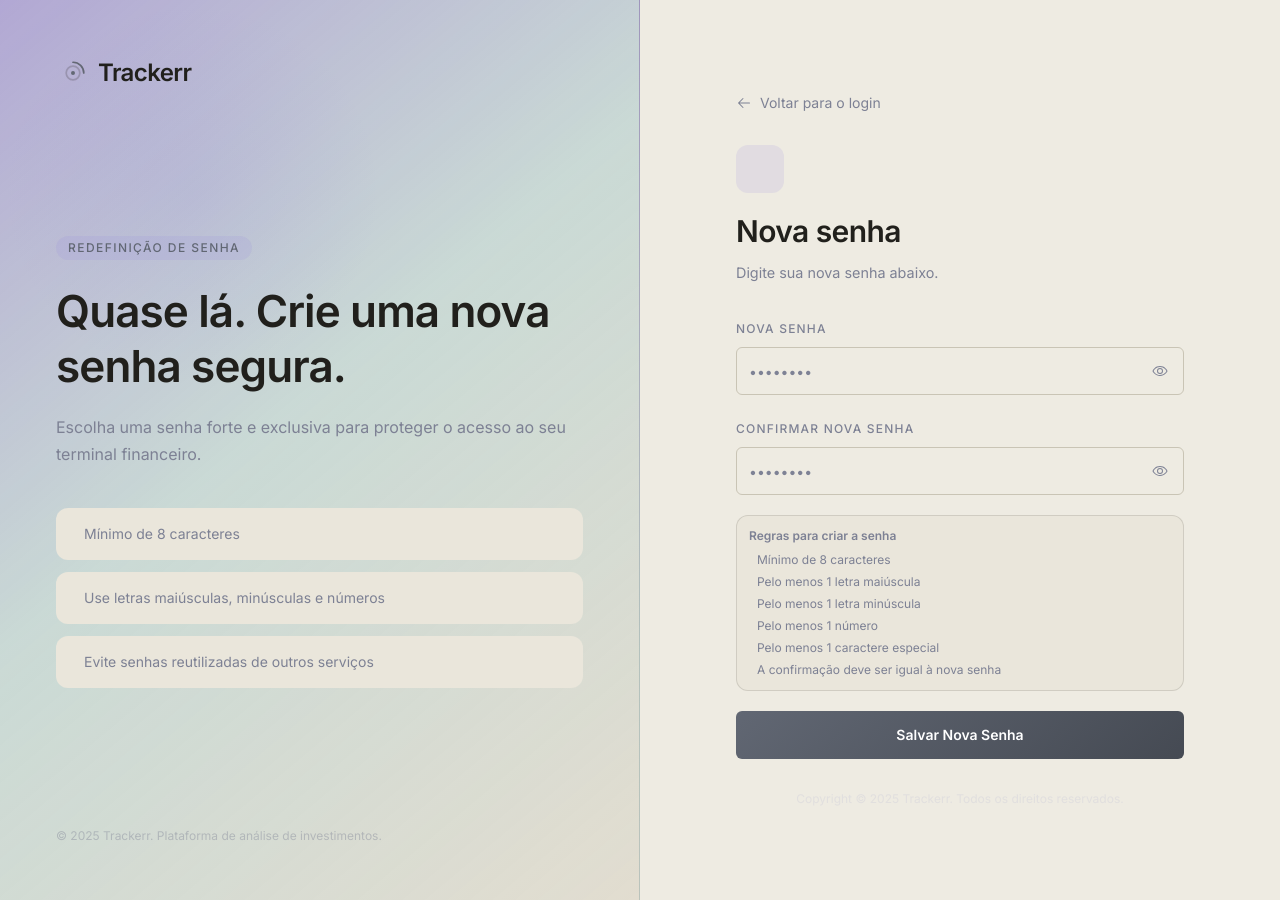
ResetPassword › deve exibir erro quando as senhas não coincidem
The width and height of the screenshot is (1280, 900).
Type "Password123@" into the 1st password field with placeholder "••••••••" at (960, 371), box 736,347 -> 1184,395
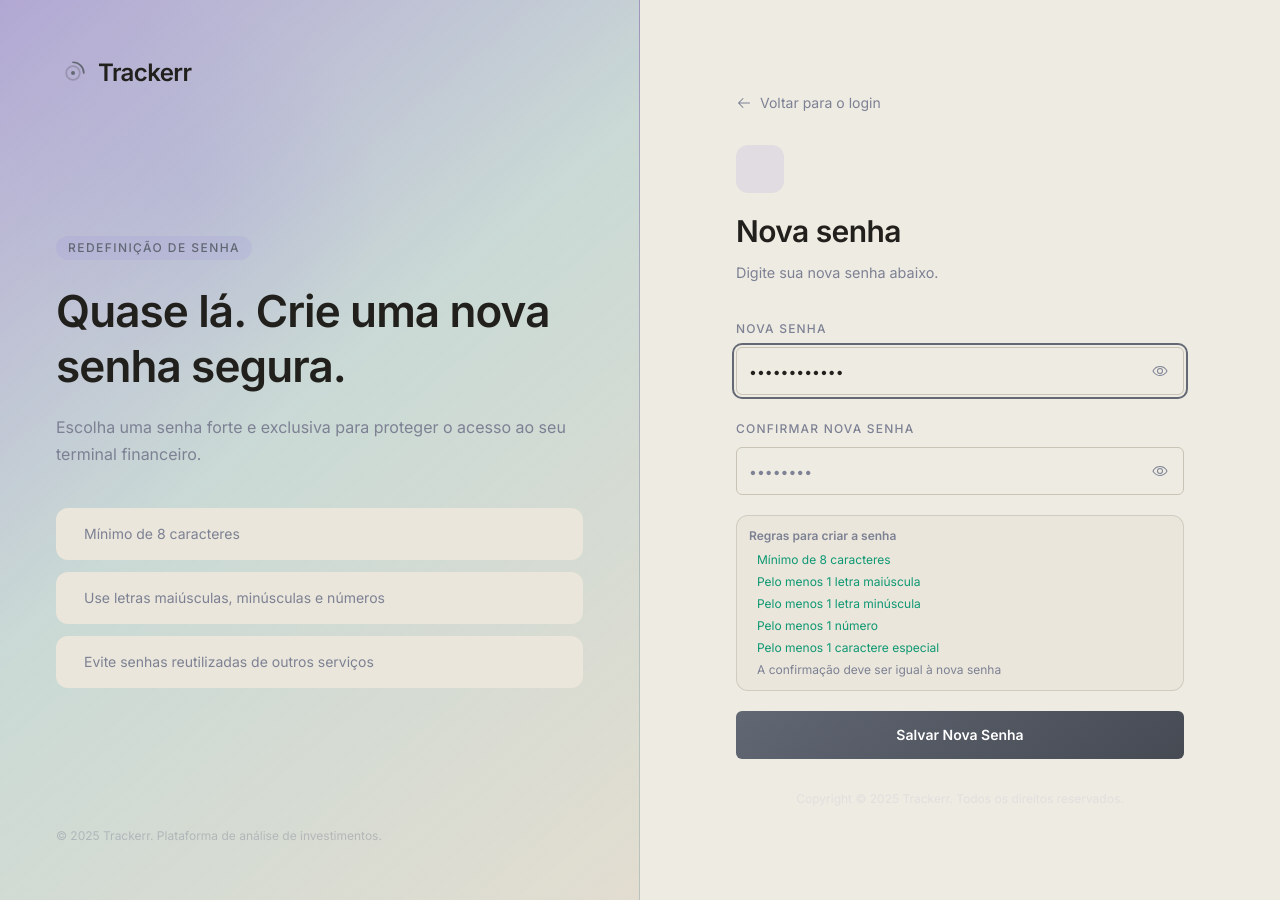
Type "Different123@" into the password field with placeholder "••••••••" at (960, 471), box 736,447 -> 1184,495
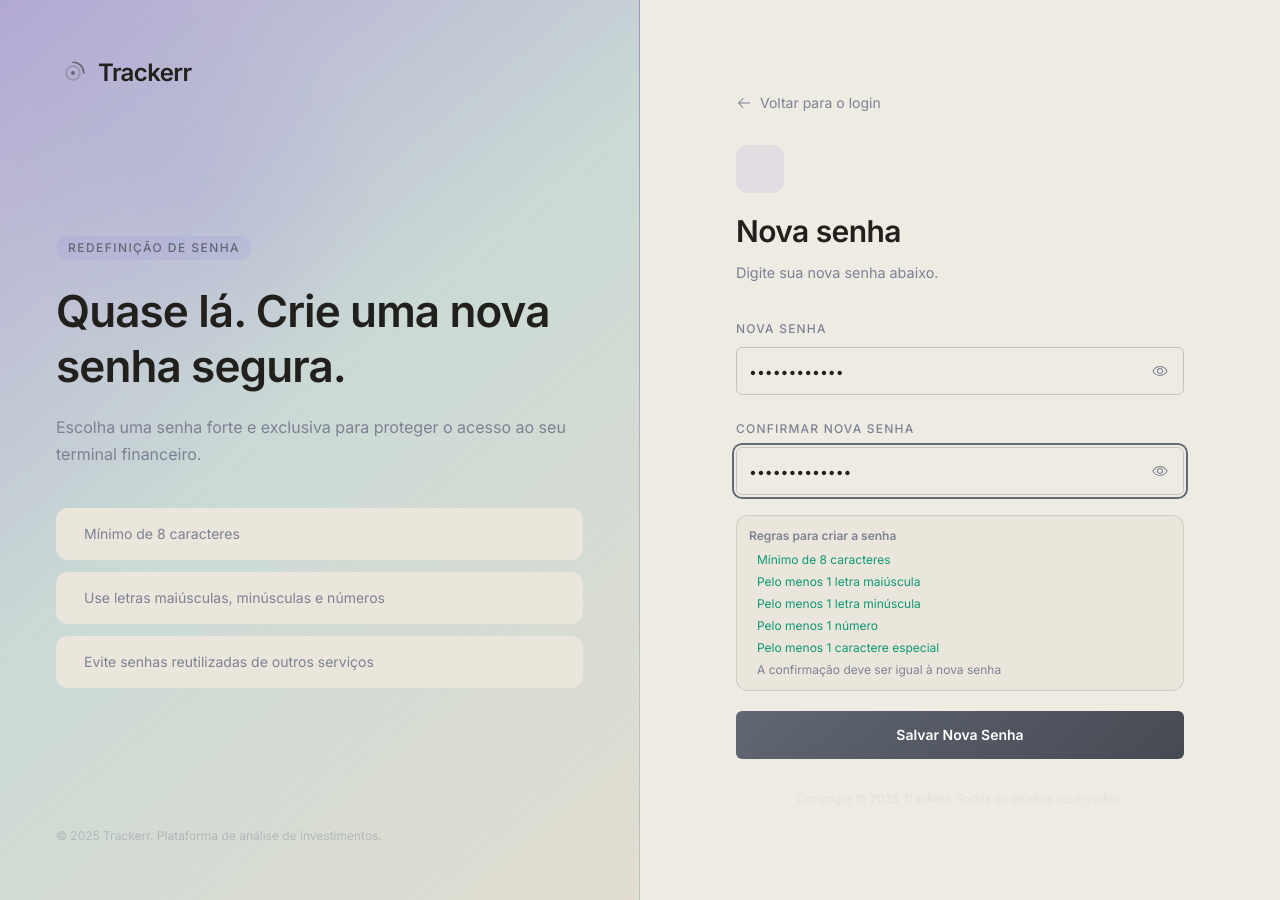
Click the button "Salvar Nova Senha" at (960, 735), box 736,711 -> 1184,759
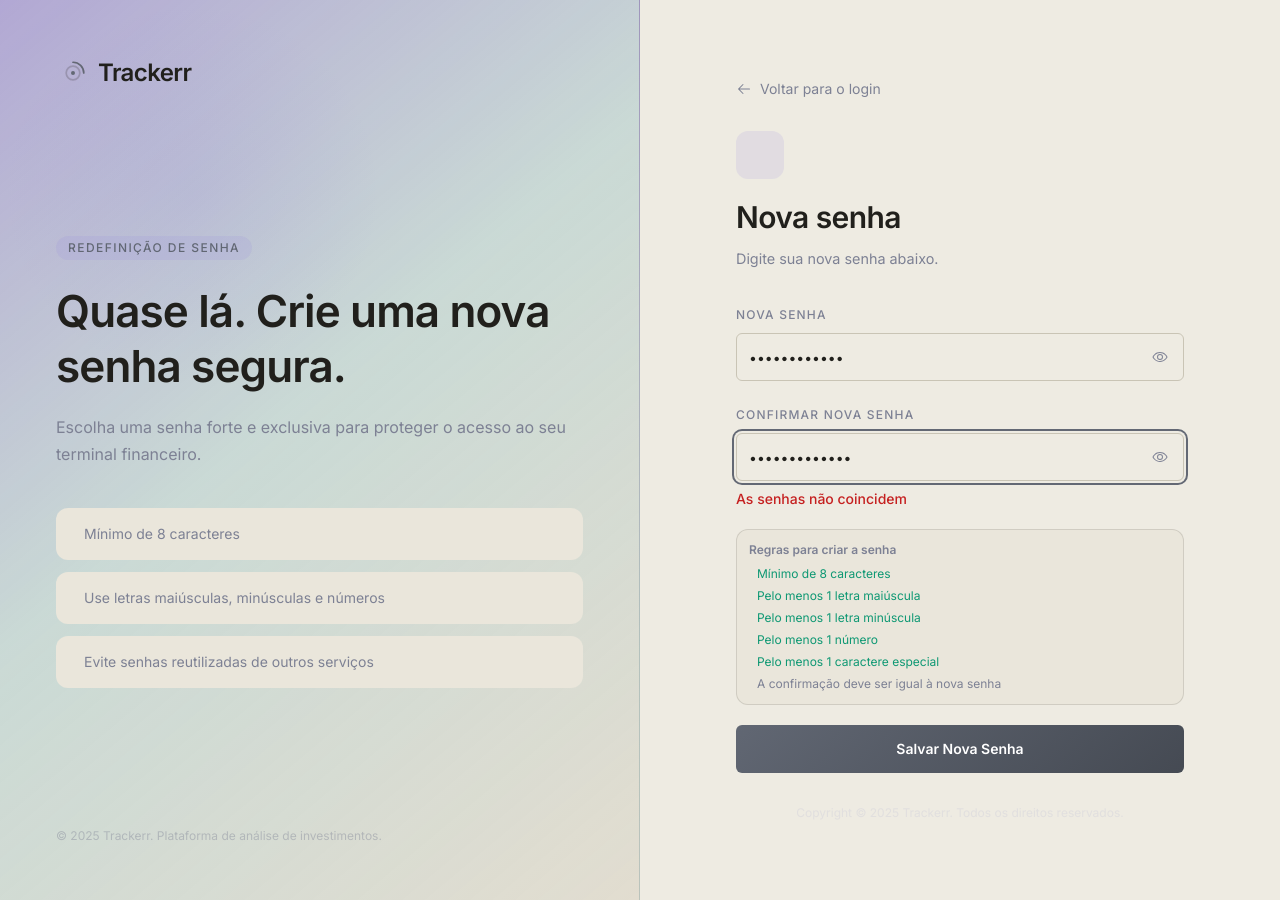
Expected: the text "As senhas não coincidem" is shown, 736,490 -> 907,507
